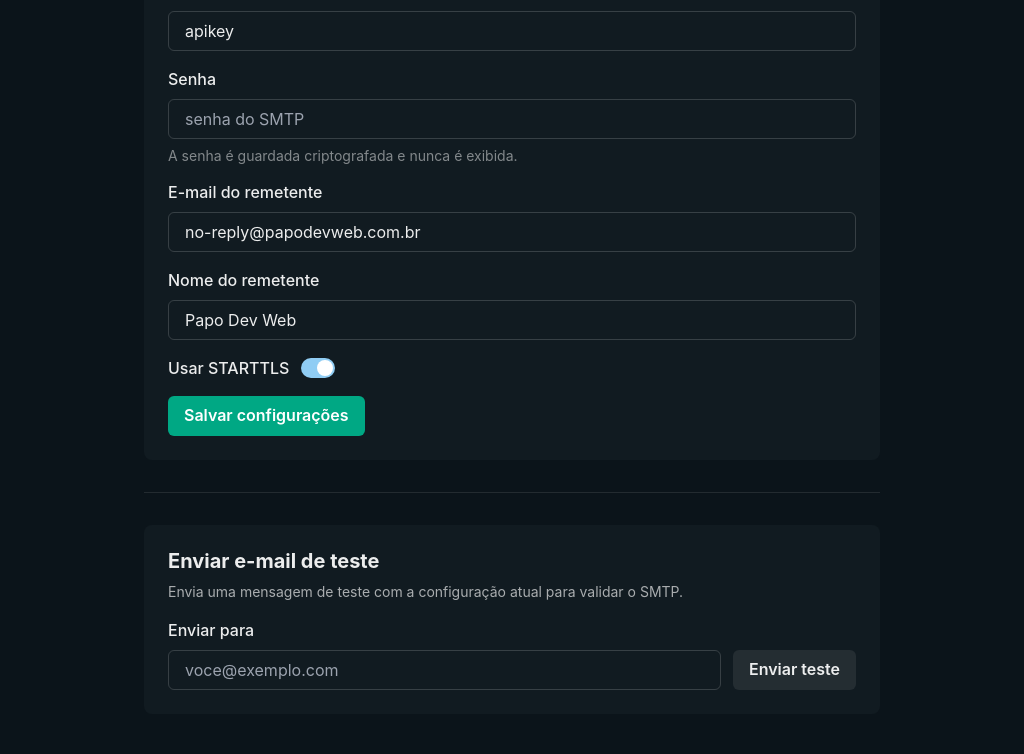
Test: AdminSettingsPage › avisa ao enviar e-mail de teste sem destinatário
(page scrolled)
Click the button "Enviar teste": click(794, 670) [733,650,856,690]
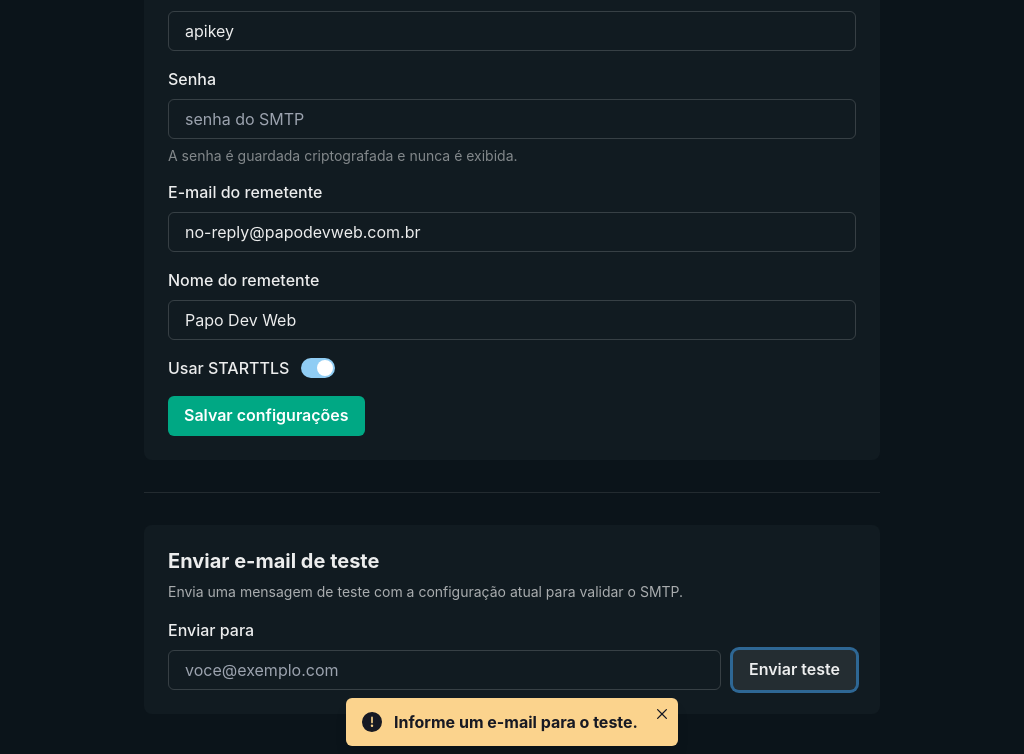
Expected: the text "Informe um e-mail para o teste." is shown, [394,710,638,734]
